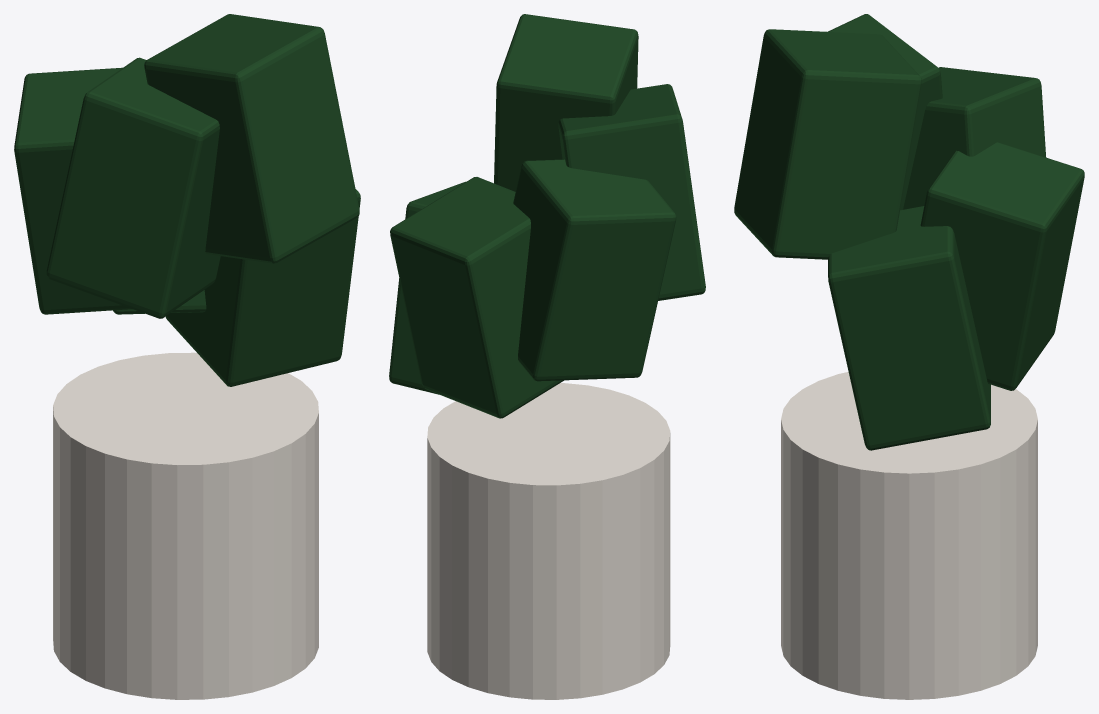
Rendered from plant_indoor.glb.
The picture shows the model from 3 angles, left to right: view 1: azimuth 30°, elevation 25°; view 2: azimuth 150°, elevation 25°; view 3: azimuth 270°, elevation 25°; orthographic projection. The views are drawn at different scales.
Visible parts, largest first — view 1: Cylinder, Cube.004, Cube.003, Cube, Cube.002, Cube.001; view 2: Cylinder, Cube.002, Cube.001, Cube.004, Cube.003, Cube; view 3: Cylinder, Cube.004, Cube, Cube.001, Cube.002, Cube.003.
Boxes of the visible parts, <box> form: Cylinder: <box>53,352,318,699</box>; Cube.004: <box>144,14,359,263</box>; Cube.003: <box>46,57,220,318</box>; Cube: <box>165,189,360,386</box>; Cube.002: <box>14,67,132,314</box>; Cube.001: <box>113,290,206,314</box>; Cylinder: <box>427,383,670,699</box>; Cube.002: <box>513,159,676,381</box>; Cube.001: <box>390,177,563,418</box>; Cube.004: <box>494,14,638,191</box>; Cube.003: <box>558,84,705,300</box>; Cube: <box>389,181,465,394</box>; Cylinder: <box>781,372,1037,699</box>; Cube.004: <box>734,29,921,259</box>; Cube: <box>828,206,990,450</box>; Cube.001: <box>920,142,1084,390</box>; Cube.002: <box>903,67,1046,209</box>; Cube.003: <box>827,14,942,210</box>.
Bounding box in the file's own units: 0.4518 × 0.9479 × 0.4911.
